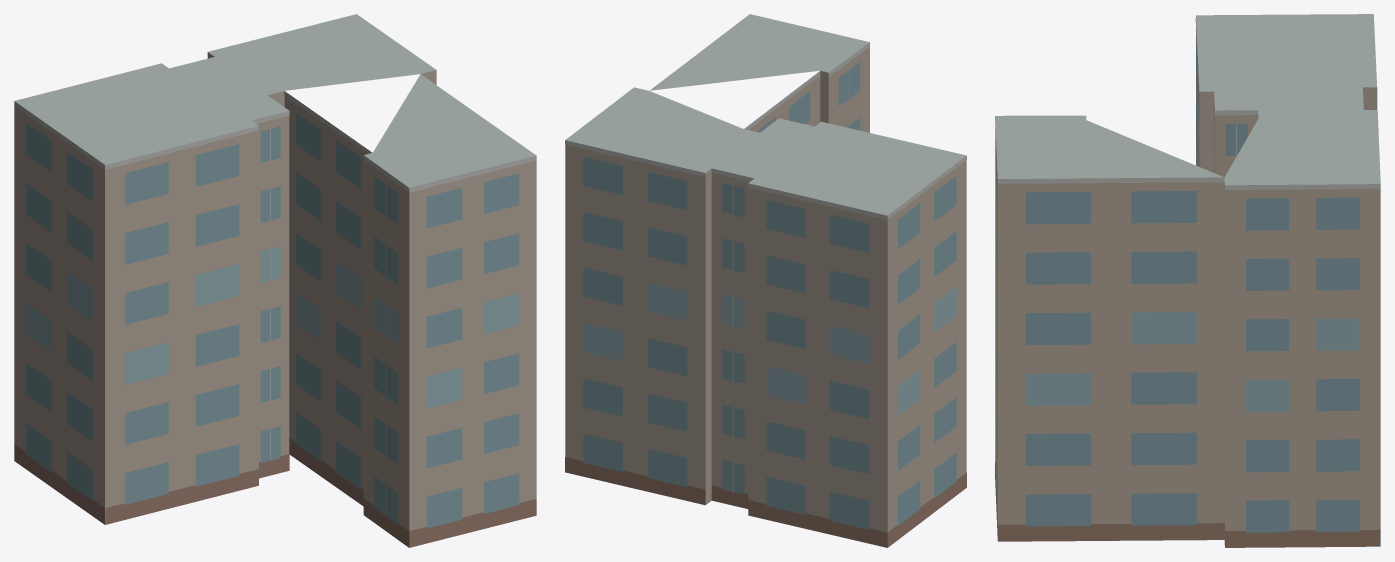
Rendered from survey-upis-33046958.glb.
The picture shows the model from 3 angles, left to right: view 1: azimuth 30°, elevation 25°; view 2: azimuth 150°, elevation 25°; view 3: azimuth 270°, elevation 25°; orthographic projection. The views are drawn at different scales.
Visible parts, largest first — view 1: survey-upis-33046958.tmp; view 2: survey-upis-33046958.tmp; view 3: survey-upis-33046958.tmp.
Boxes of the visible parts, bbox=[...] form: survey-upis-33046958.tmp: bbox=[14, 14, 536, 547]; survey-upis-33046958.tmp: bbox=[565, 14, 966, 547]; survey-upis-33046958.tmp: bbox=[995, 14, 1380, 547].
Bounding box in the file's own units: 18.55 × 18.3 × 17.64.
